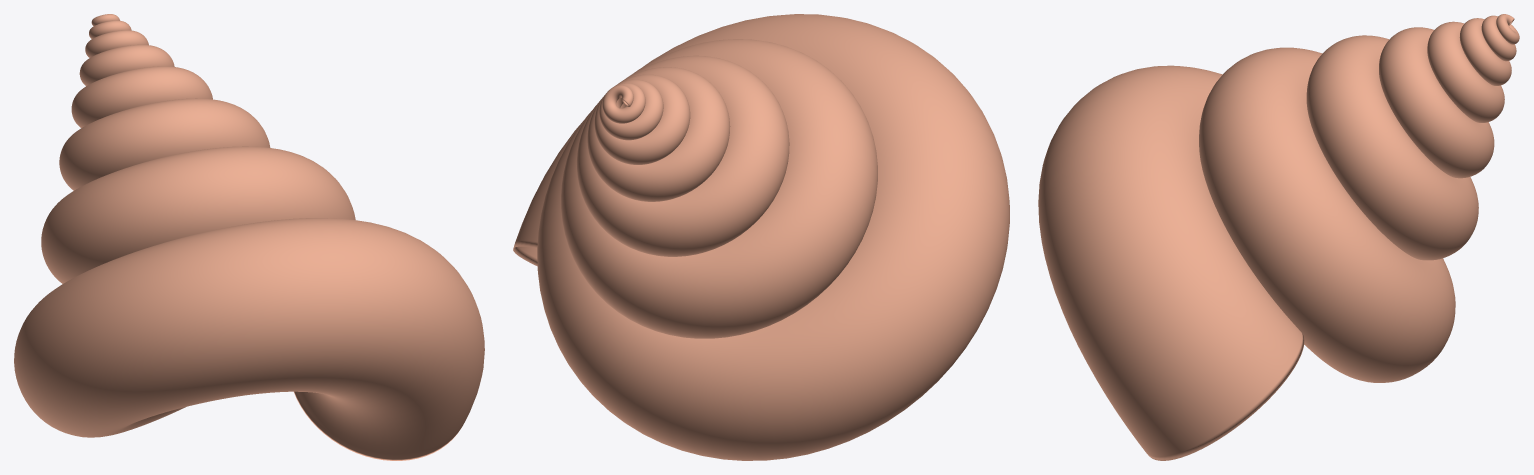
Rendered from shell.glb.
The picture shows the model from 3 angles, left to right: view 1: azimuth 30°, elevation 25°; view 2: azimuth 150°, elevation 25°; view 3: azimuth 270°, elevation 25°; orthographic projection. The views are drawn at different scales.
Parts seen in each view (by area): view 1: Shell; view 2: Shell; view 3: Shell.
Boxes of the visible parts, <box> form: Shell: <box>14,14,484,460</box>; Shell: <box>513,14,1009,460</box>; Shell: <box>1038,14,1519,460</box>.
Size of the model in its own units: 4.91 by 4.03 by 4.86.
